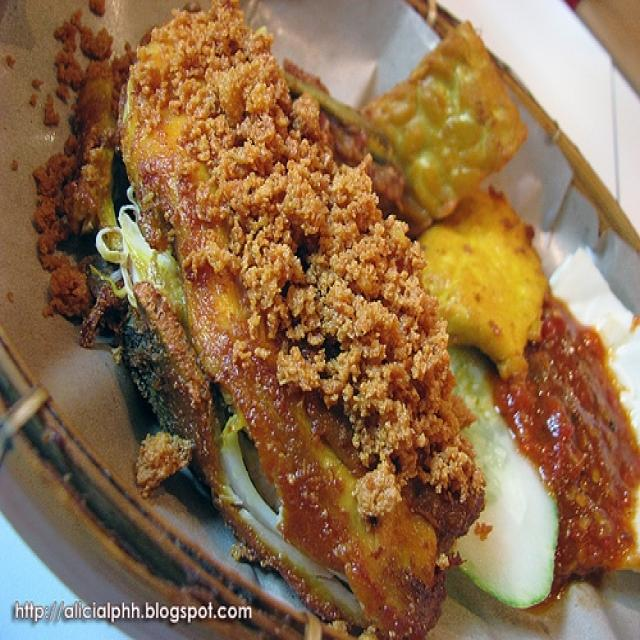鸡肉料理 含炸鸡: (50, 25, 617, 612)
